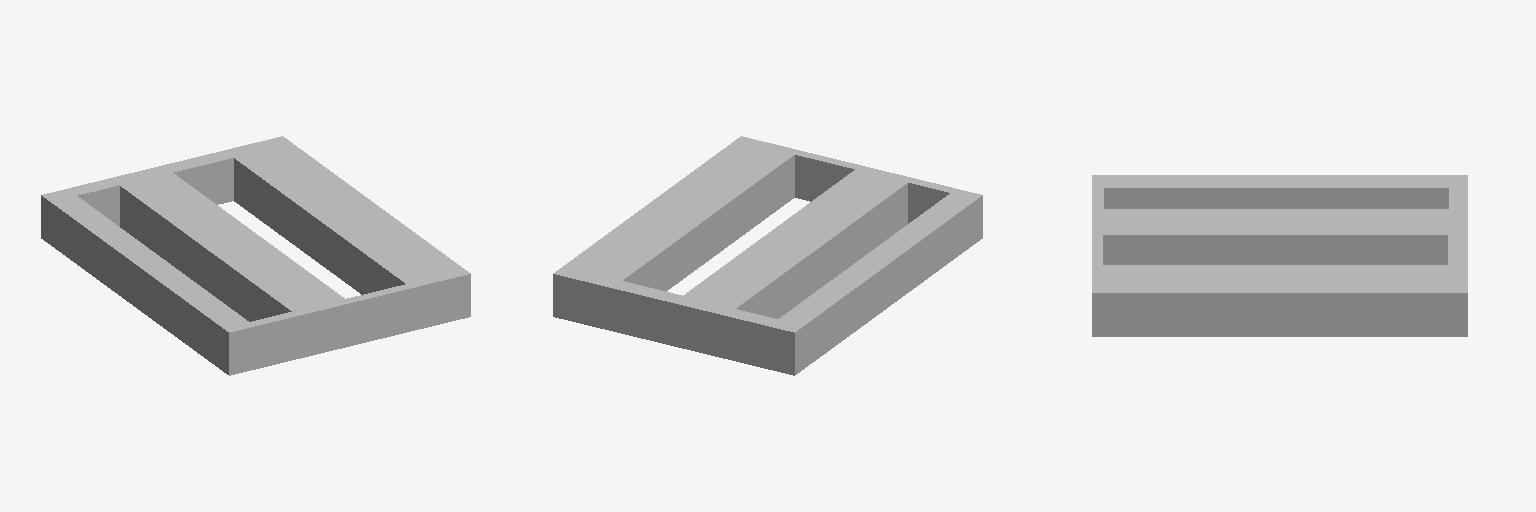
The model's file is çift yarık.obj.
3 renders of one model, left to right at view 1: azimuth 30°, elevation 25°; view 2: azimuth 150°, elevation 25°; view 3: azimuth 270°, elevation 25°, orthographic.
Parts seen in each view (by area): view 1: Box001; view 2: Box001; view 3: Box001.
Boxes of the visible parts, x1=… form: Box001: x1=41, y1=136, x2=470, y2=375; Box001: x1=553, y1=136, x2=982, y2=375; Box001: x1=1092, y1=175, x2=1467, y2=336.
Size of the model in its own units: 22.87 by 3.9 by 30.81.